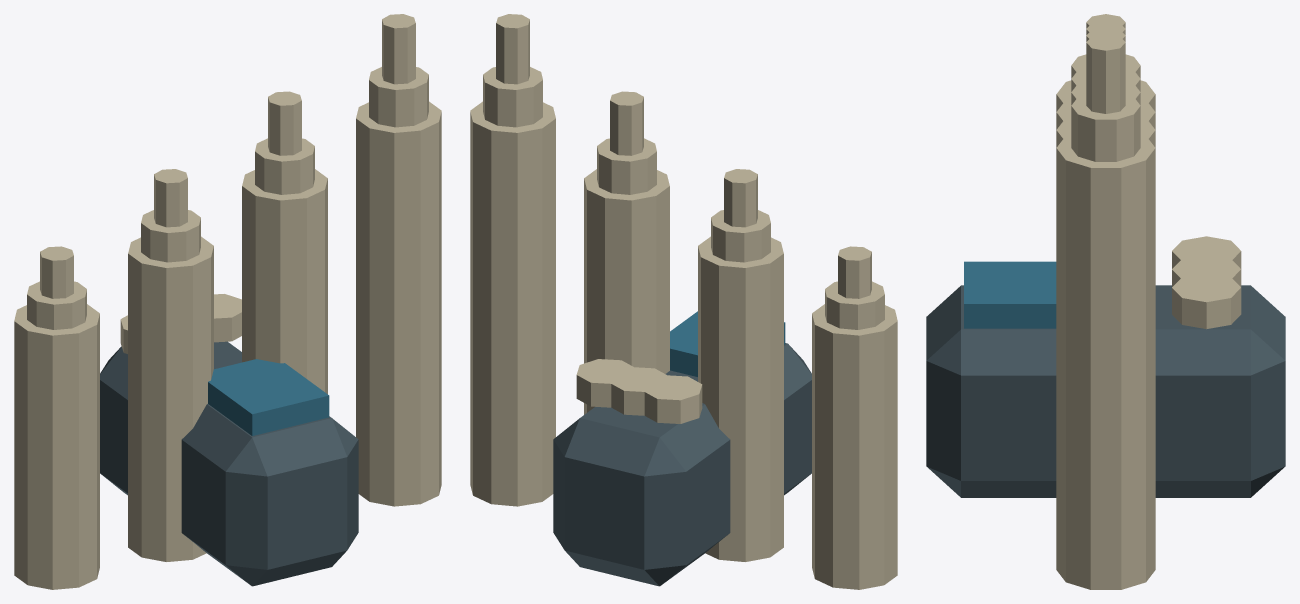
The model's file is set_beaker_set.glb.
3 renders of one model, left to right at view 1: azimuth 30°, elevation 25°; view 2: azimuth 150°, elevation 25°; view 3: azimuth 270°, elevation 25°, orthographic. The views are drawn at different scales.
Parts seen in each view (by area): view 1: set_beaker_set; view 2: set_beaker_set; view 3: set_beaker_set.
Boxes of the visible parts, box(x1,y1,x2,y2) form: set_beaker_set: box(14, 14, 441, 589); set_beaker_set: box(470, 14, 897, 589); set_beaker_set: box(926, 14, 1285, 589).
Size of the model in its own units: 0.218 by 0.235 by 0.145.
